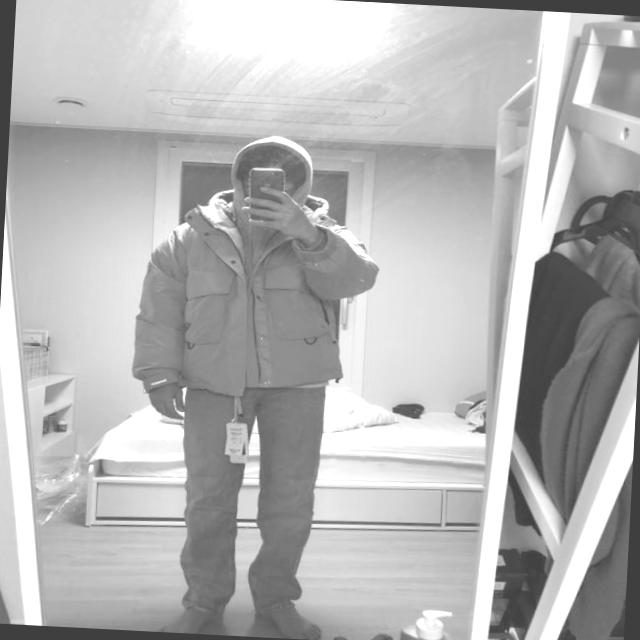padding: (132, 181, 382, 404), (175, 374, 325, 614)
